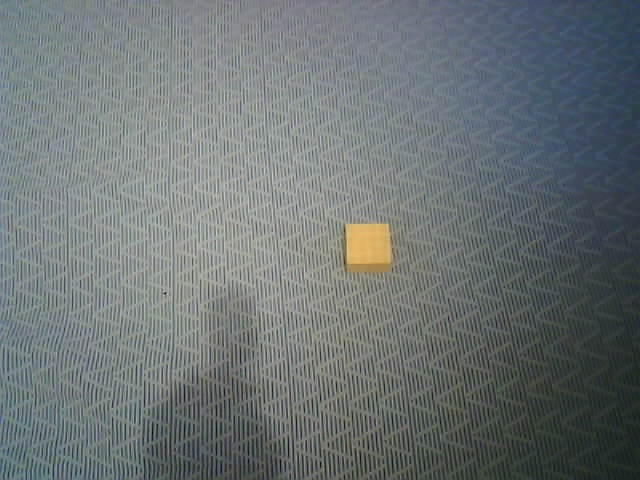lego: (342, 222, 393, 274)
